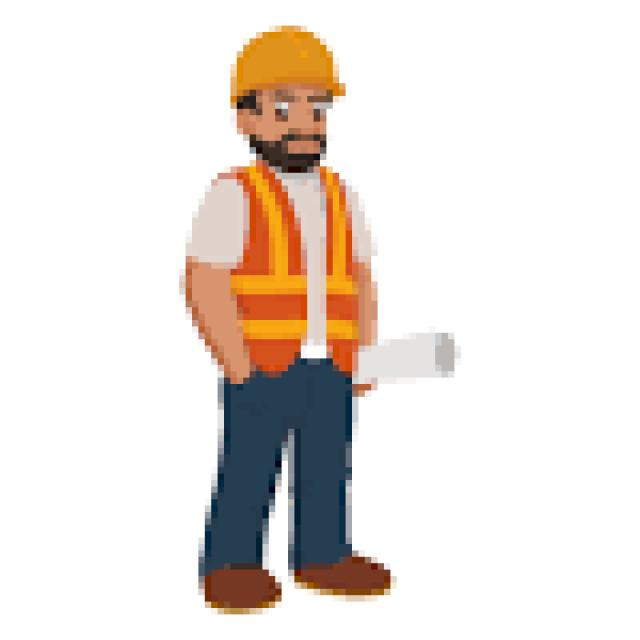Reflective-Jacket: (218, 160, 364, 384)
Safety-Helmet: (224, 19, 346, 109)
